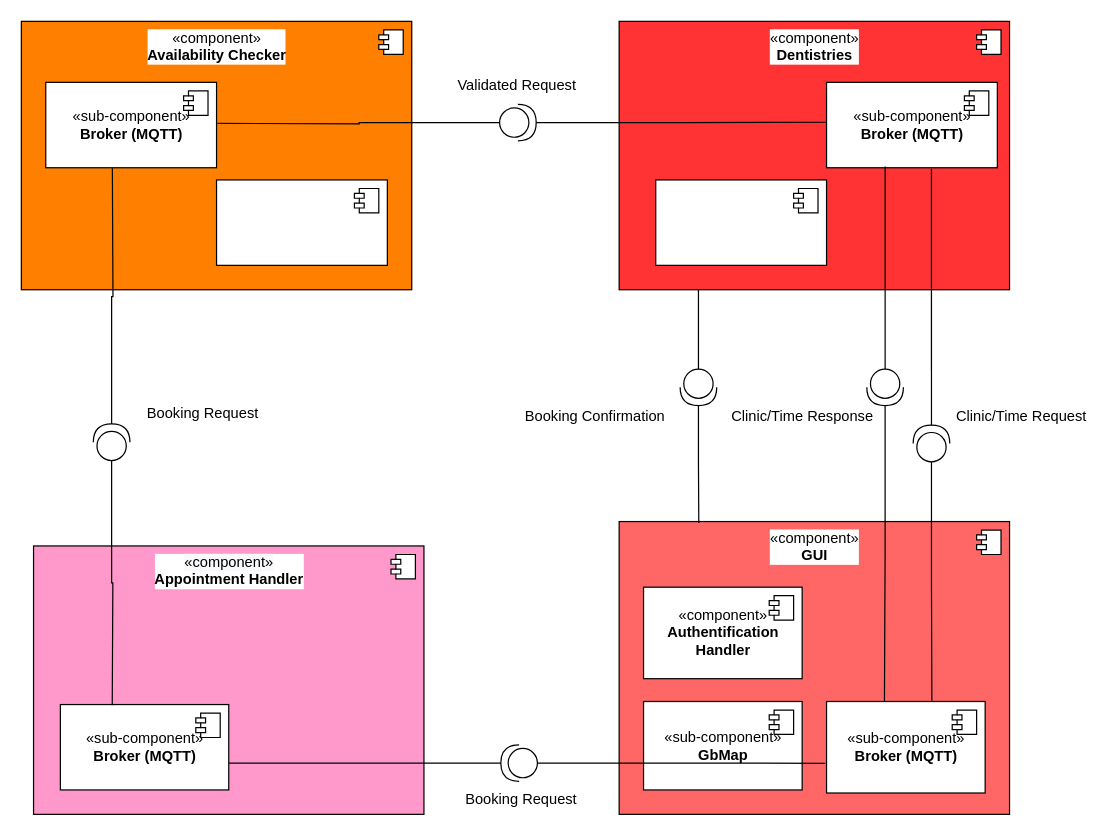
This 1110x839 diagram has some shape labels left out. Each missing label, with the centre of its shape:
«sub-component» Appointments DB: (301,222)
«sub-component» Dentistries DB: (741,222)
